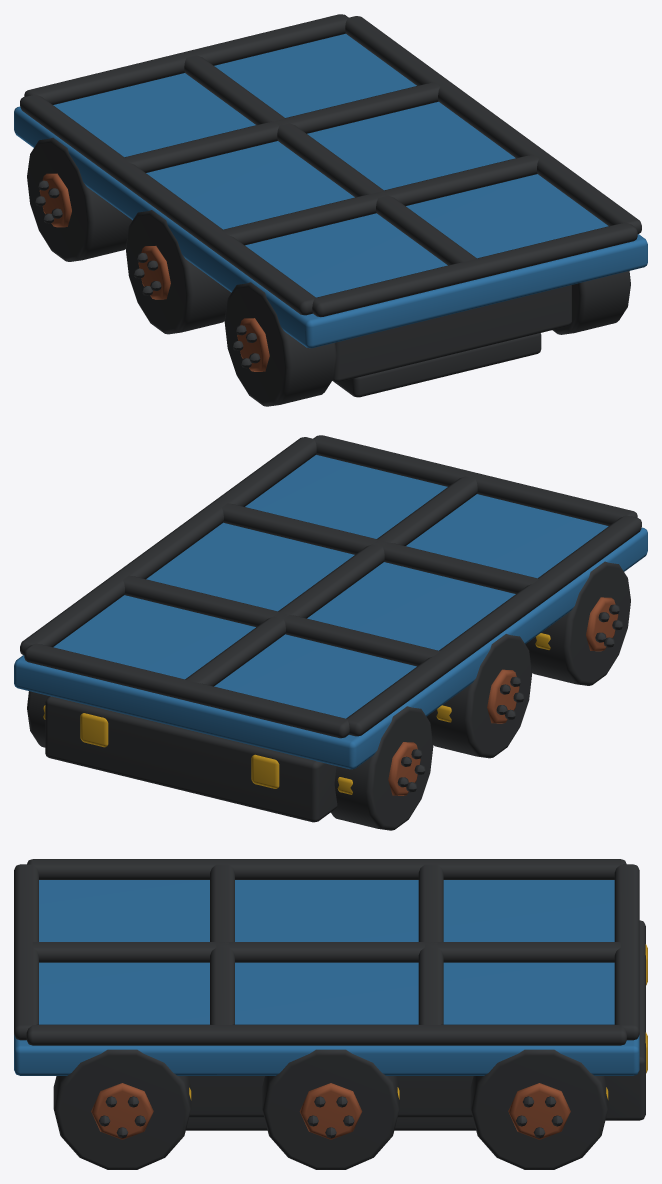
File: rig.glb
3 renders of one model, top to bottom at view 1: azimuth 30°, elevation 25°; view 2: azimuth 150°, elevation 25°; view 3: azimuth 270°, elevation 25°, orthographic. The views are drawn at different scales.
Visible parts, largest first — view 1: rig-body, wheel_l0, wheel_l1, wheel_l2, wheel_r0; view 2: rig-body, wheel_l2, wheel_l1, wheel_l0, wheel_r2; view 3: rig-body, wheel_r0, wheel_r2, wheel_r1.
Boxes of the visible parts, x1,y1,x2,y2 form: rig-body: [14, 14, 647, 397]; wheel_l0: [224, 282, 336, 406]; wheel_l1: [125, 210, 231, 334]; wheel_l2: [27, 137, 132, 261]; wheel_r0: [552, 271, 630, 334]; rig-body: [14, 435, 647, 822]; wheel_l2: [331, 706, 433, 830]; wheel_l1: [426, 634, 532, 758]; wheel_l0: [525, 561, 630, 685]; wheel_r2: [27, 691, 49, 747]; rig-body: [14, 859, 647, 1130]; wheel_r0: [53, 1049, 191, 1169]; wheel_r2: [470, 1049, 608, 1169]; wheel_r1: [262, 1049, 399, 1169].
Size of the model in its own units: 2.18 by 0.74 by 3.04.
